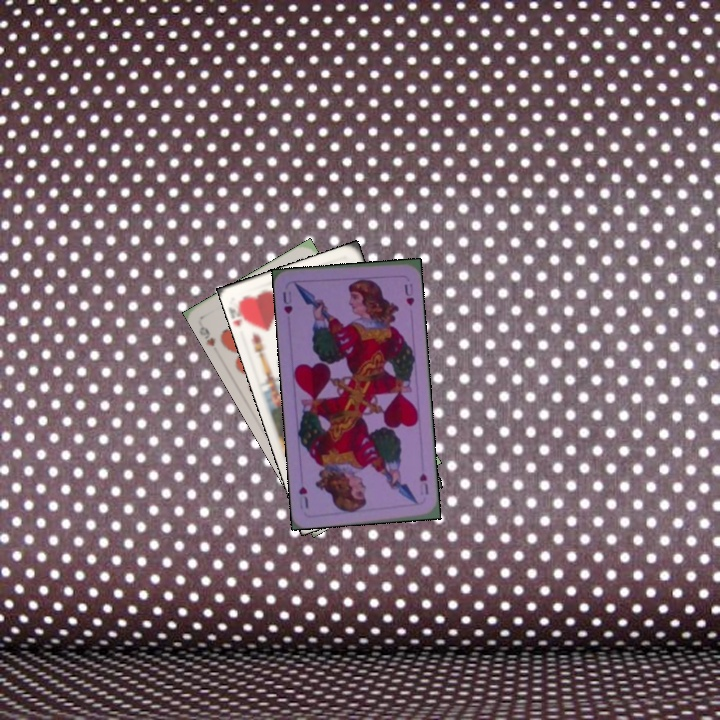H9: (196, 322, 219, 349)
HK: (227, 296, 253, 329)
HU: (279, 287, 295, 317), (415, 469, 431, 497)
